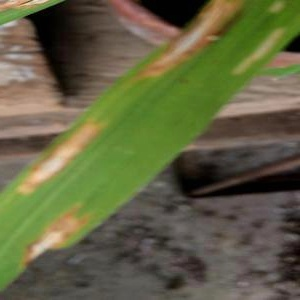Brown_Spot: (22, 182, 127, 268), (19, 107, 105, 199), (146, 4, 233, 79), (232, 19, 291, 83)
